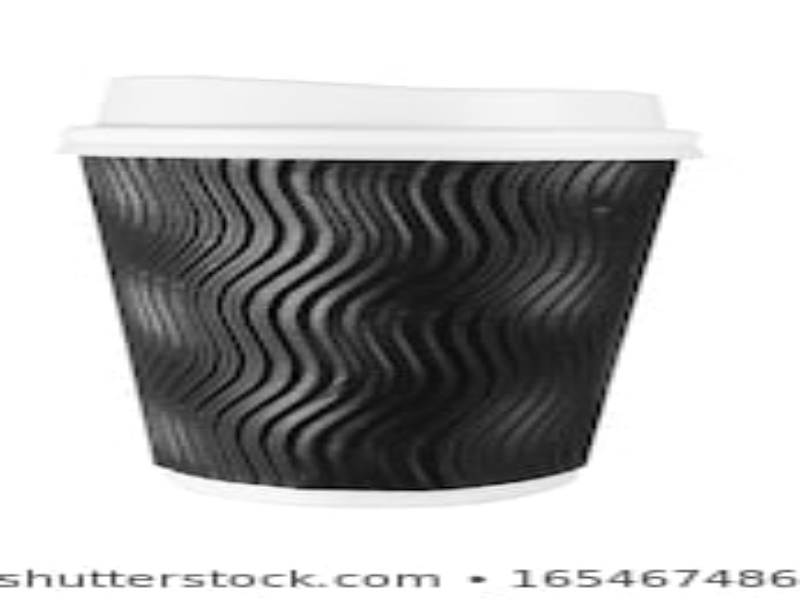coffee-lid: (46, 67, 715, 172)
plastic-cup: (59, 70, 706, 514)
